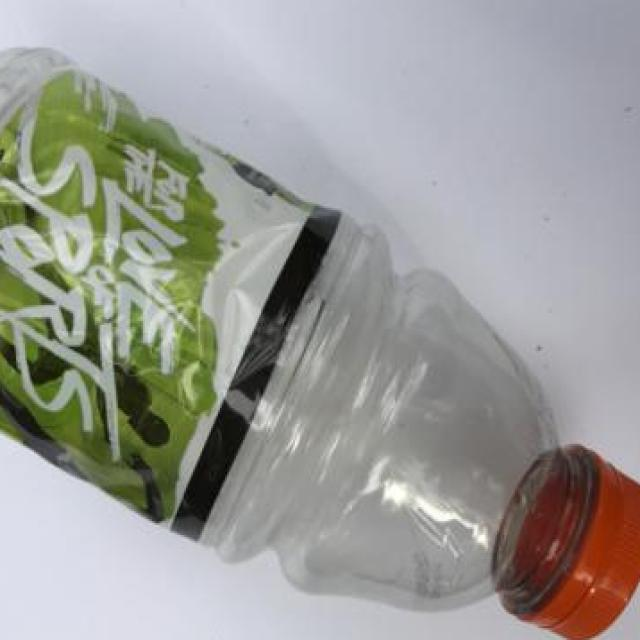organic: (2, 40, 634, 633)
